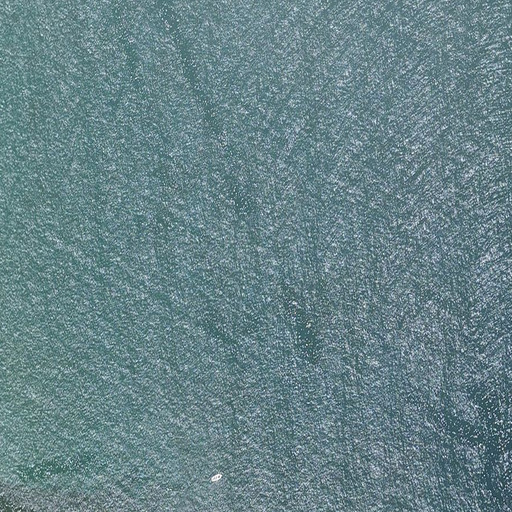ship: (209, 472, 222, 481)
